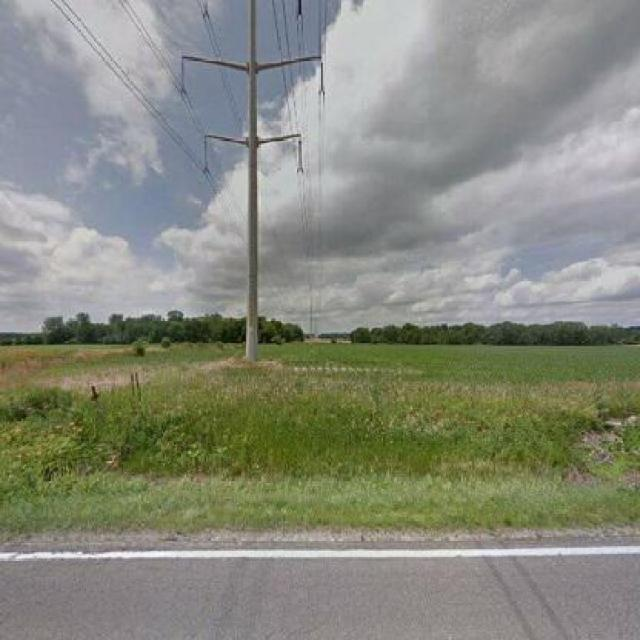pole: (183, 0, 326, 355)
